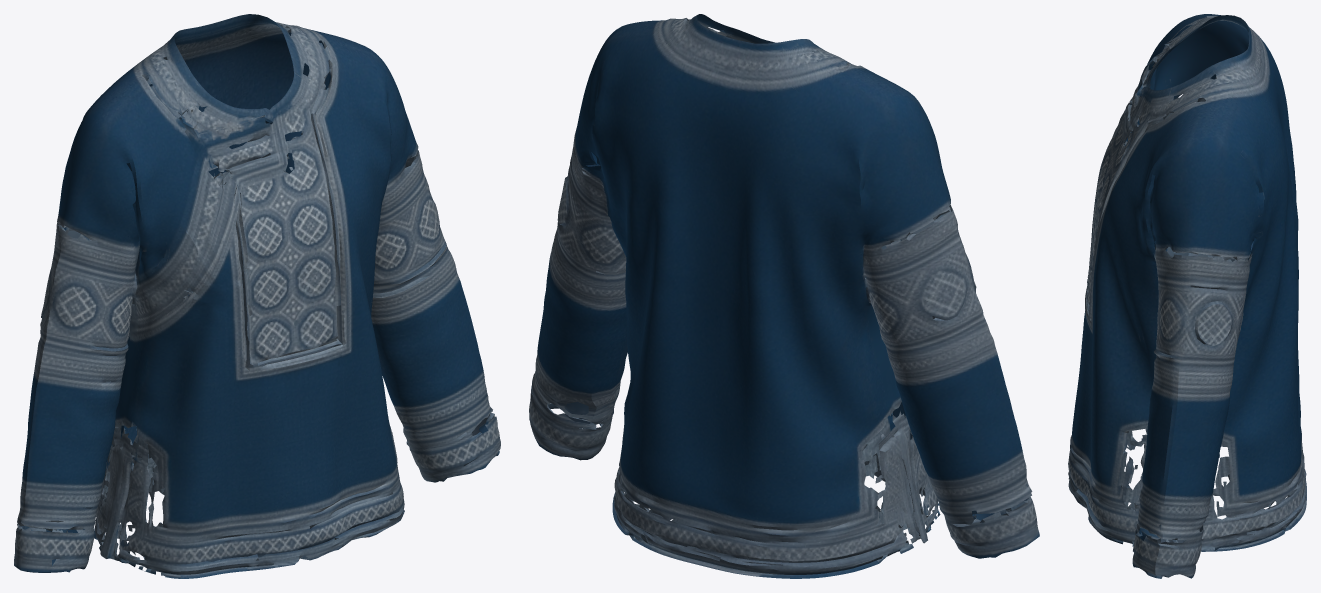
Rendered from Blue Embroidered Tunic_Import0001.fbx.
The picture shows the model from 3 angles, left to right: view 1: azimuth 30°, elevation 25°; view 2: azimuth 150°, elevation 25°; view 3: azimuth 270°, elevation 25°; orthographic projection. The views are drawn at different scales.
Parts seen in each view (by area): view 1: Mesh0; view 2: Mesh0; view 3: Mesh0.
Part boxes in pixels (x1,y1,x2,y2): Mesh0: [14, 14, 500, 578]; Mesh0: [529, 14, 1039, 578]; Mesh0: [1068, 14, 1306, 578].
Bounding box in the file's own units: 189 × 181 × 85.7.
1 material, 1 textured.
